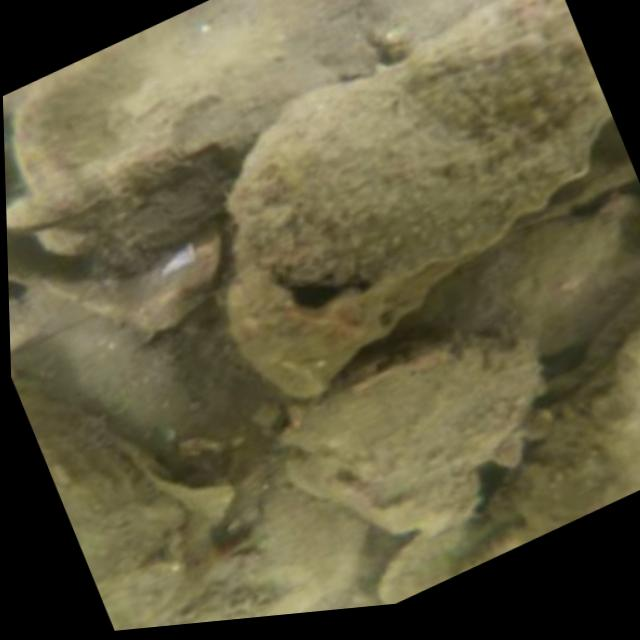Oyster-Indeterminate: (229, 0, 600, 292), (4, 28, 348, 268), (288, 333, 540, 524), (17, 376, 187, 630), (4, 145, 226, 335), (495, 322, 640, 536), (163, 488, 355, 626)
